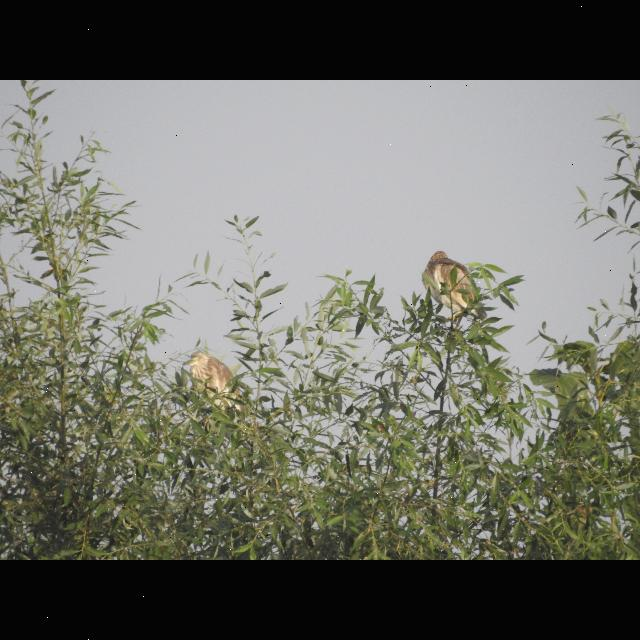heron: (412, 248, 486, 322), (183, 348, 243, 408)
